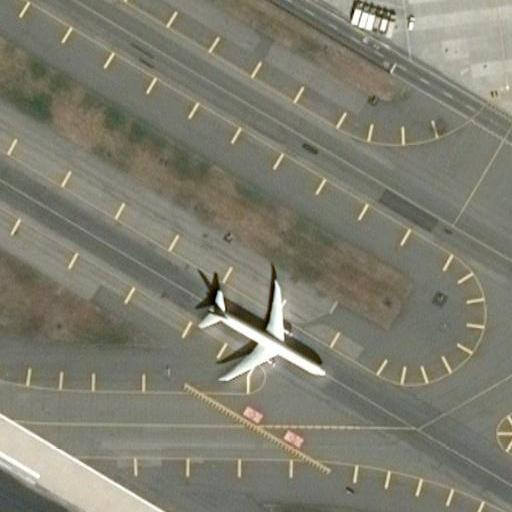Aircraft: (196, 265, 328, 390)
